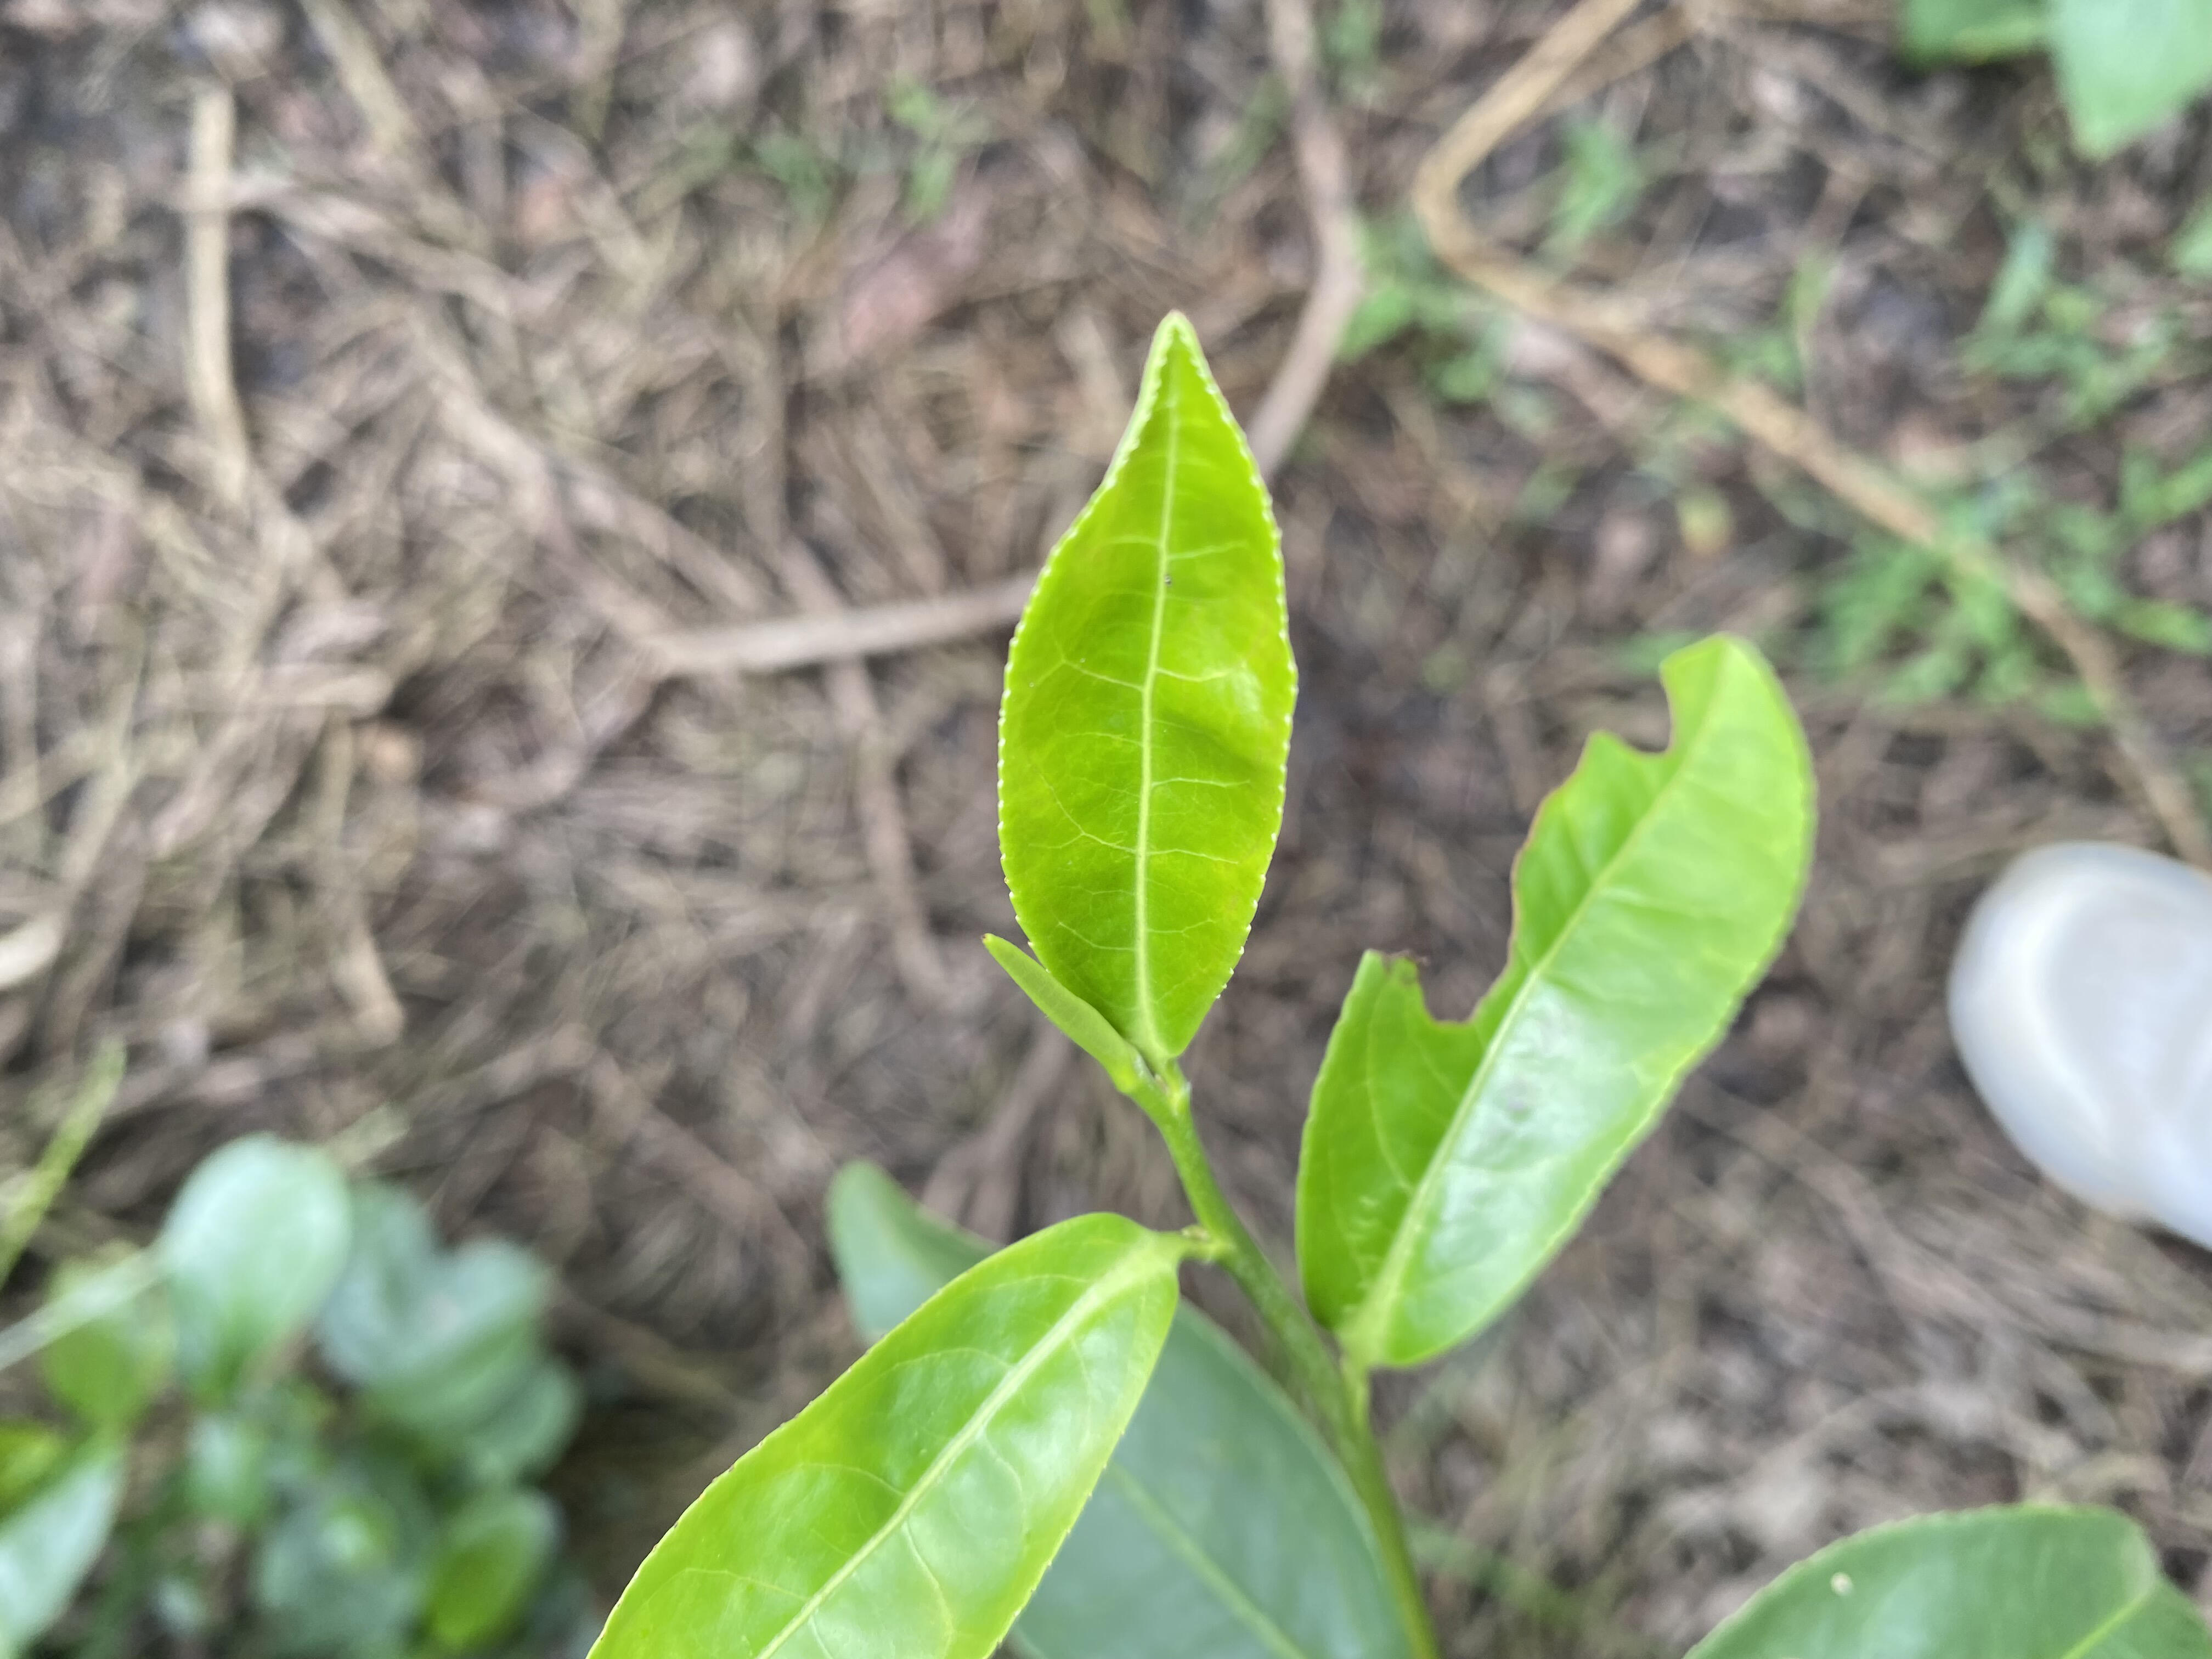chihuo_high: (1294, 629, 1820, 1373)
healthy: (583, 1209, 1184, 1659), (995, 312, 1299, 1063)
